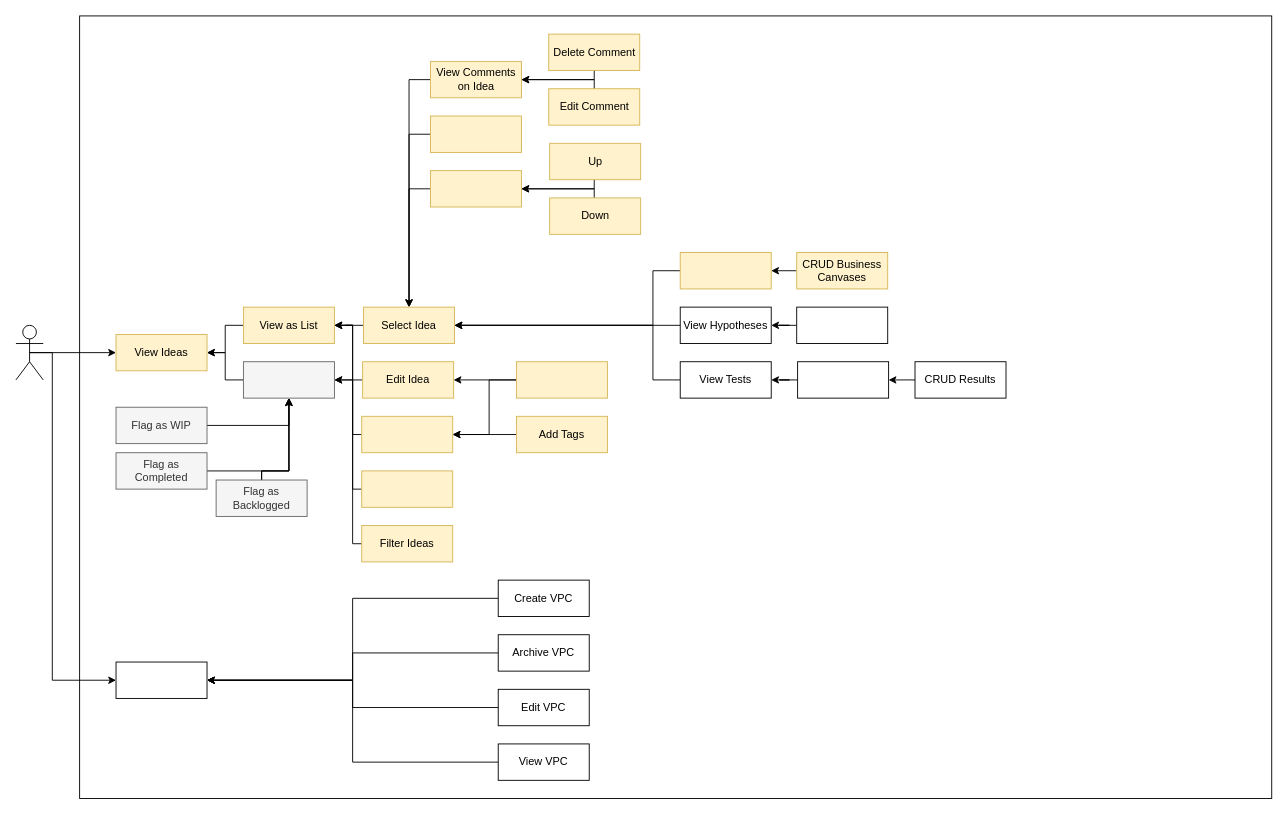
Image size: 1288x814. Some labels were removed from this diagram. The shapes that lost their labels are listed below. From the top down, each one's box as (x1, y1, x2, y2) in pixels, then its label:
(430, 115, 521, 152): Add Comment to Idea
(430, 170, 521, 207): Vote on Idea
(679, 252, 771, 289): View Business Canvases
(796, 306, 888, 344): CRUD Hypotheses
(15, 324, 43, 380): User
(243, 361, 334, 398): View as Kanban (NTH)
(516, 361, 607, 398): Assign VPC
(797, 361, 889, 398): CRUD Tests
(361, 415, 453, 453): Create Idea
(361, 470, 453, 507): Archive Idea
(115, 661, 207, 698): View Value Prop Canvases
